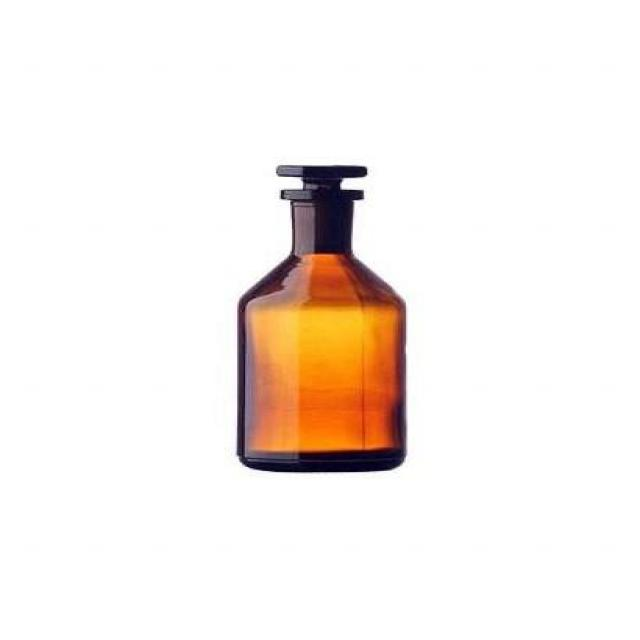non-organic waste: (226, 148, 414, 483)
